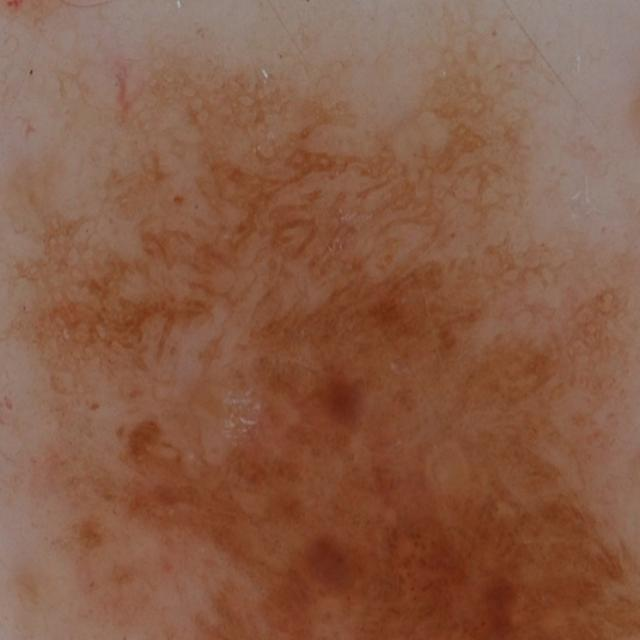Melanoma: (45, 93, 616, 640)
